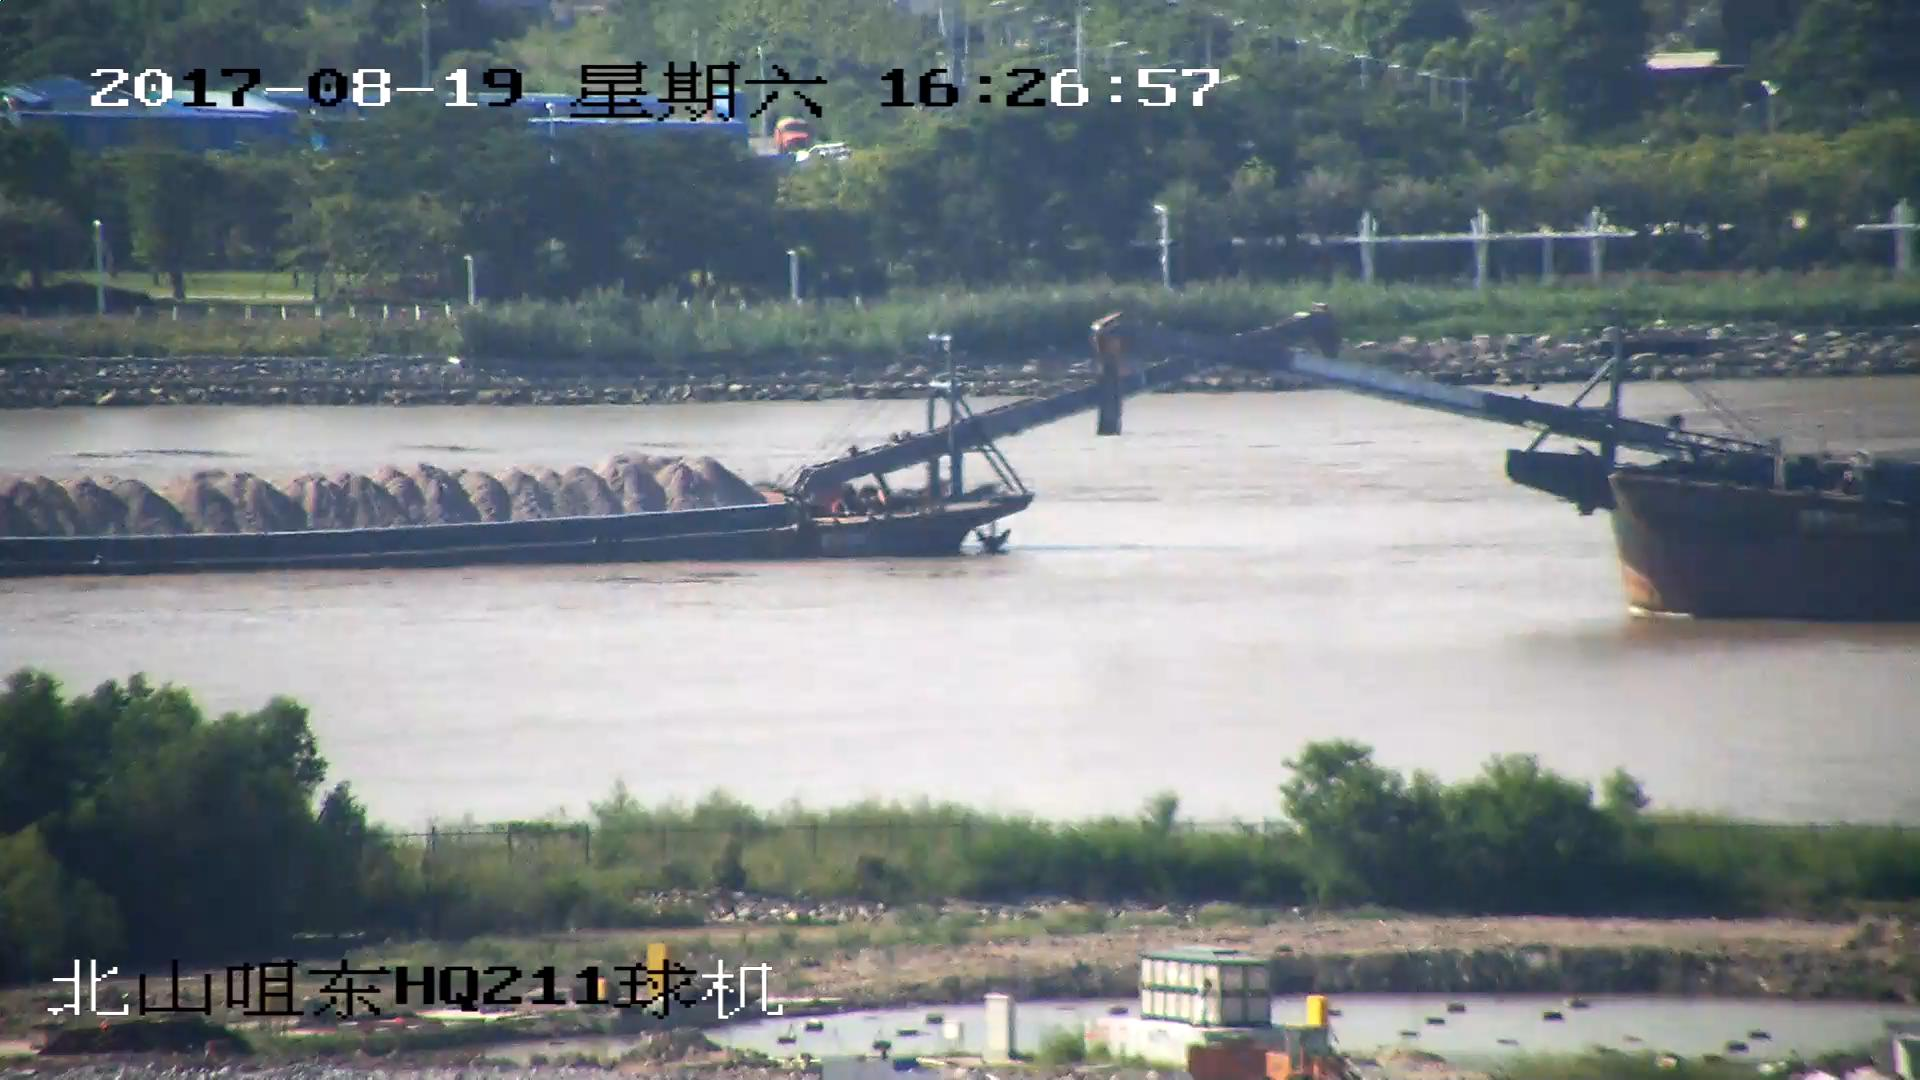bulk cargo carrier: (1090, 316, 1920, 625)
ore carrier: (1, 304, 1327, 581)
